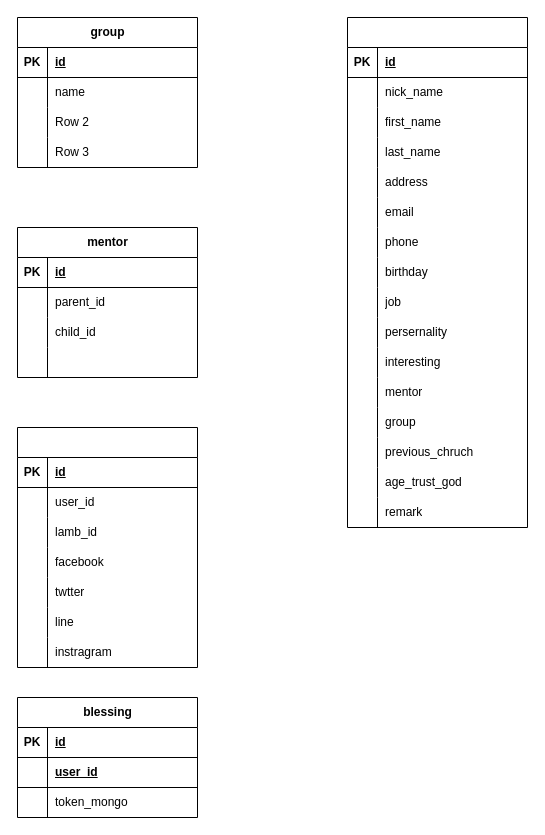
The diagram is 545 pixels wide and 835 high, and some of its shapes have lost their labels. Each missing label, with the box of its shape:
lamb: (346, 16, 528, 528)
social: (16, 426, 198, 668)
